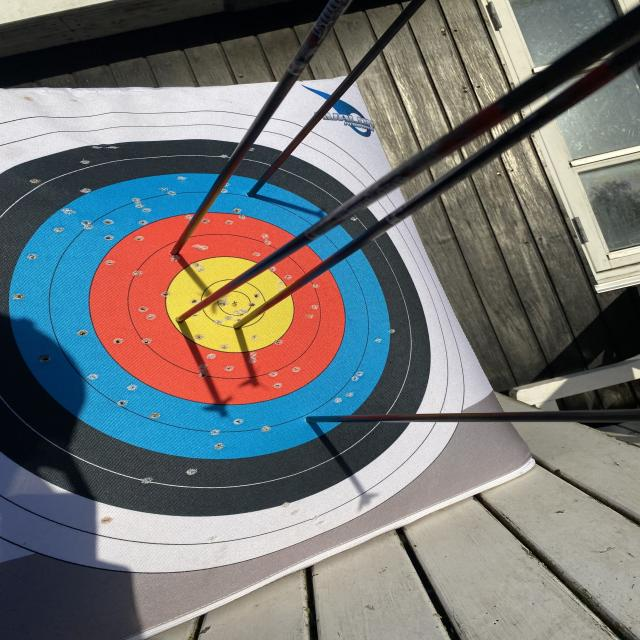Arrow_Blue: (290, 406, 336, 441), (237, 174, 275, 210)
Arrow_Red: (163, 238, 200, 270)
Arrow_Yellow: (220, 310, 272, 340), (171, 302, 201, 332)
